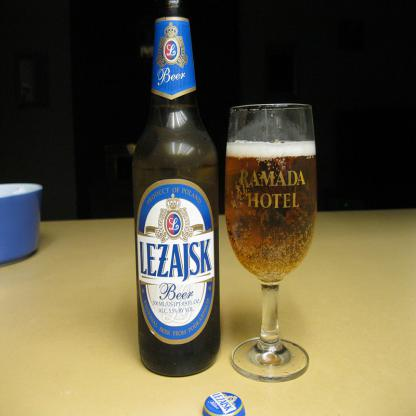drinking: (132, 0, 222, 377), (224, 102, 318, 382)
